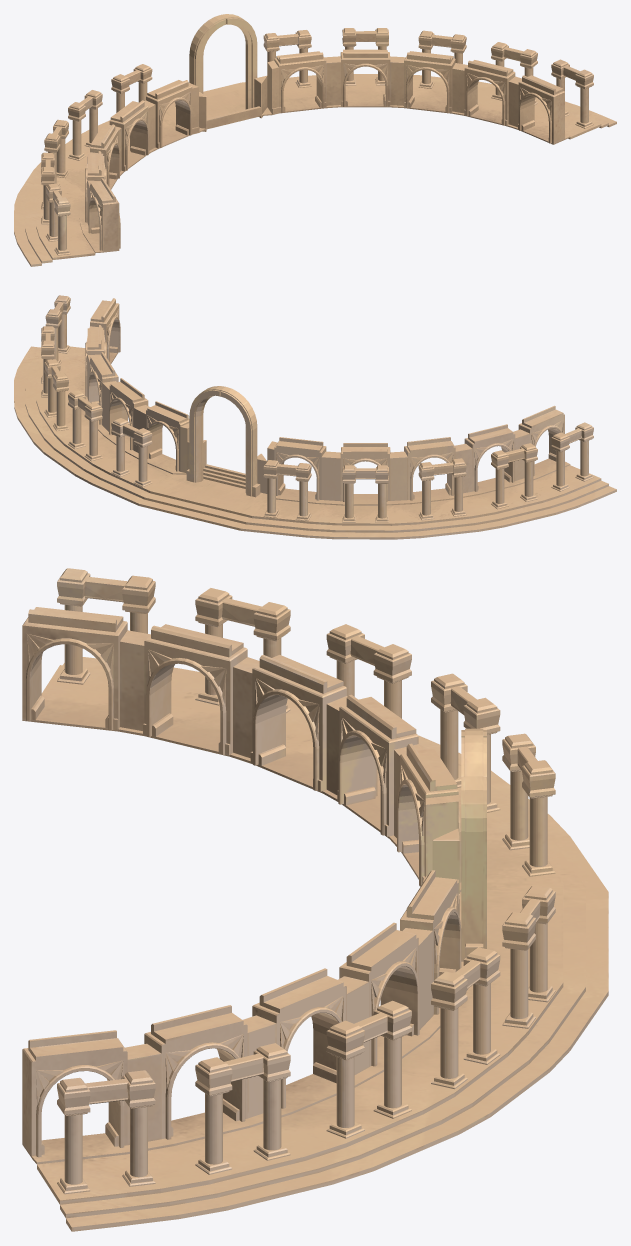
File: entrance.obj
The picture shows the model from 3 angles, top to bottom: view 1: azimuth 30°, elevation 25°; view 2: azimuth 150°, elevation 25°; view 3: azimuth 270°, elevation 25°; orthographic projection. The views are drawn at different scales.
Visible parts, largest first — view 1: entrance_Plane.046_None; view 2: entrance_Plane.046_None; view 3: entrance_Plane.046_None.
Part boxes in pixels (left/top/right/bottom): entrance_Plane.046_None: left=14, top=14, right=616, bottom=266; entrance_Plane.046_None: left=14, top=295, right=616, bottom=539; entrance_Plane.046_None: left=22, top=568, right=608, bottom=1231.
Size of the model in its own units: 27.96 by 4.8 by 12.11.
Materials: 1 (1 with a texture image).
